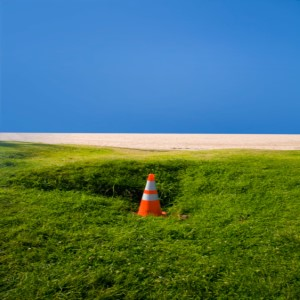traffic cone: (131, 173, 168, 226)
